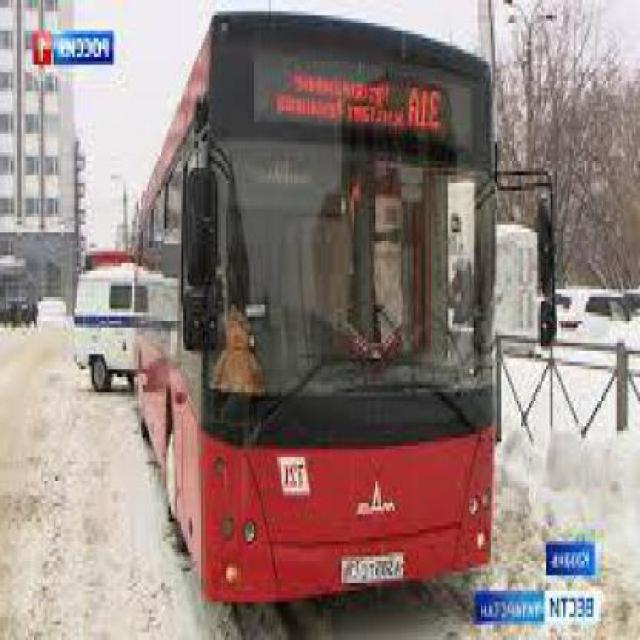bus: (137, 8, 490, 601)
